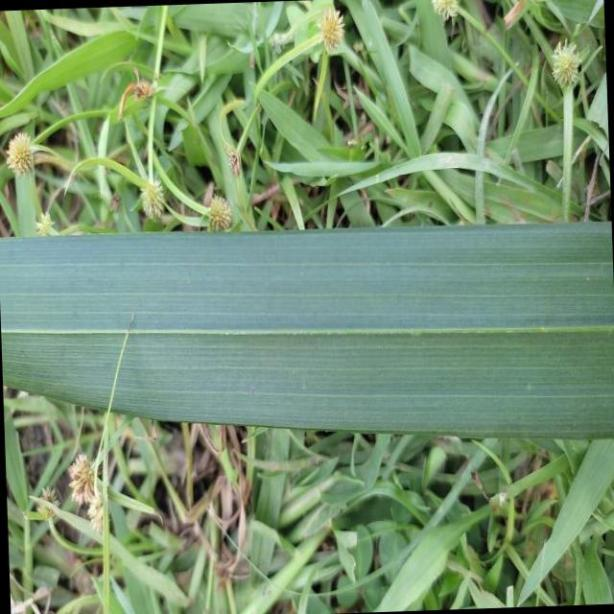Healthy: (1, 227, 614, 444)
